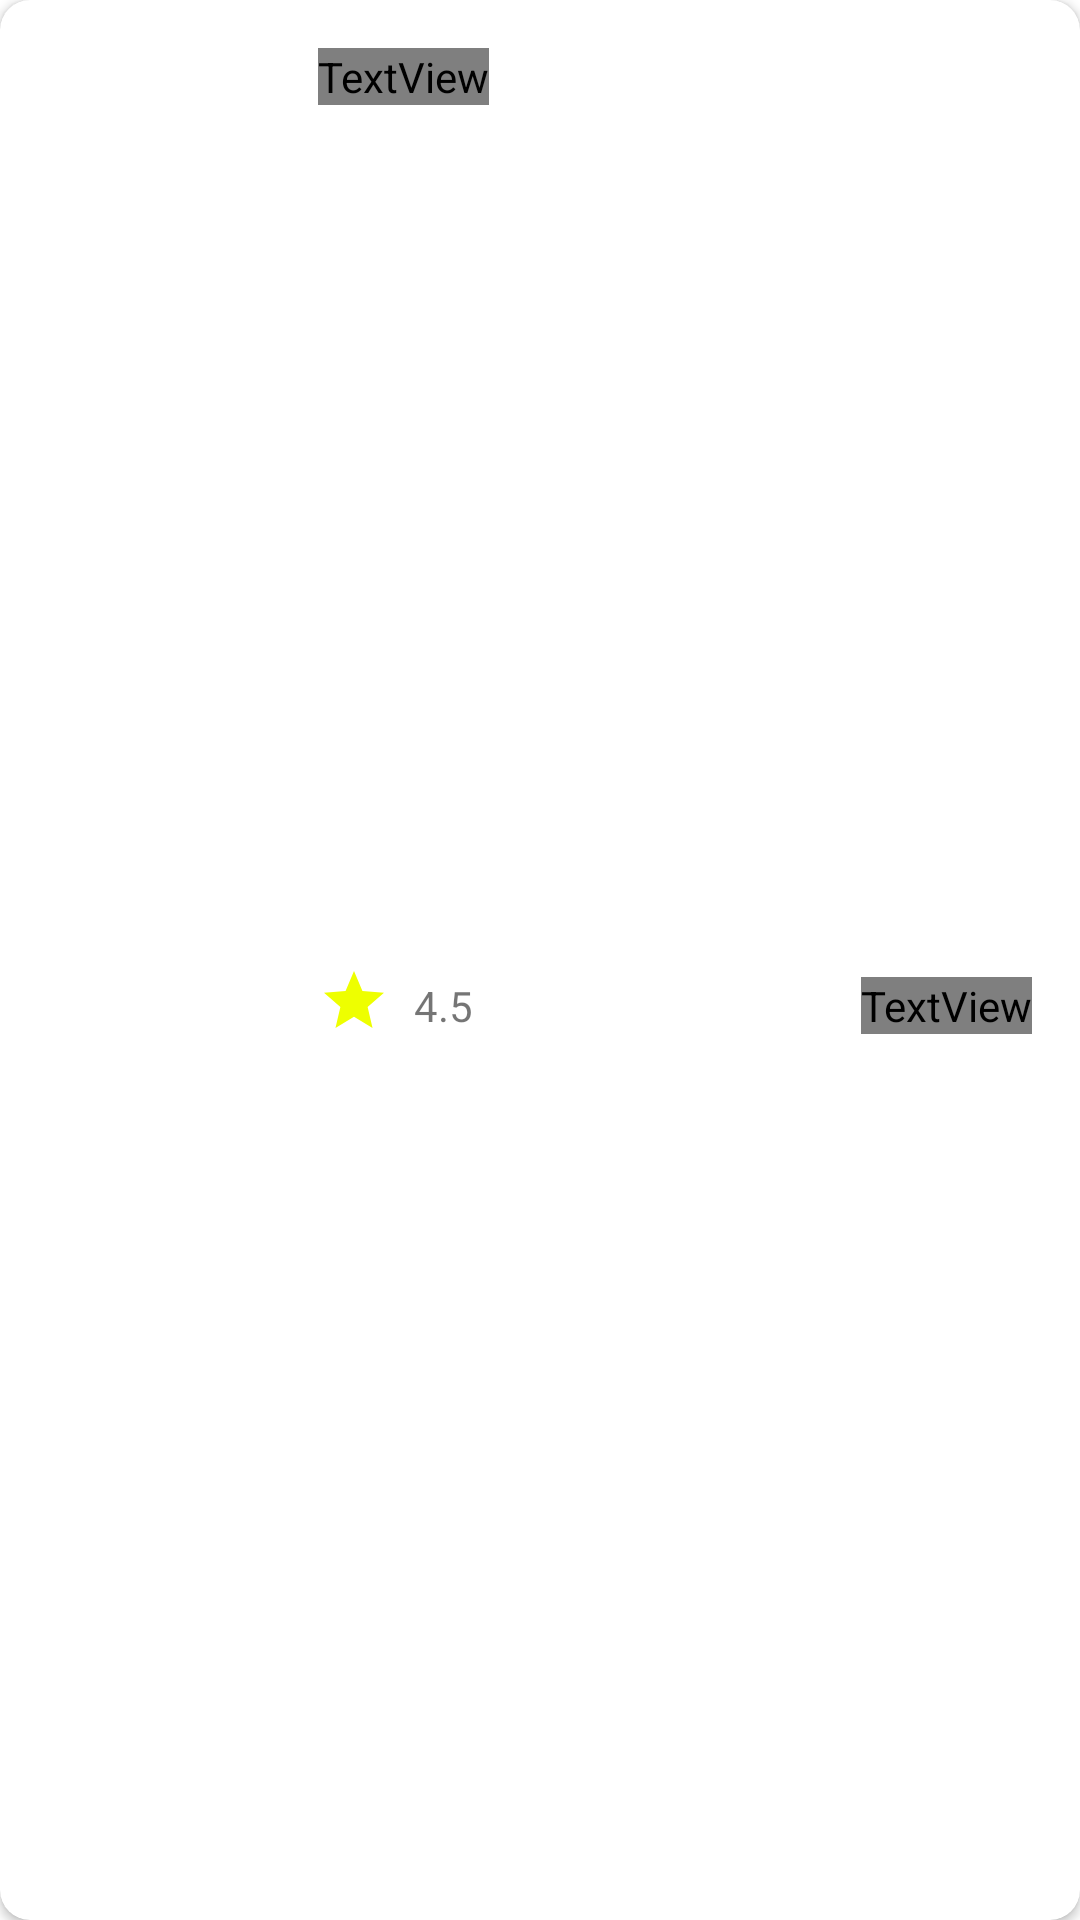

Where icons sit on this 1080*1920 app screen, as (x1, y1, x2, y2):
star: (324, 971, 384, 1028)
